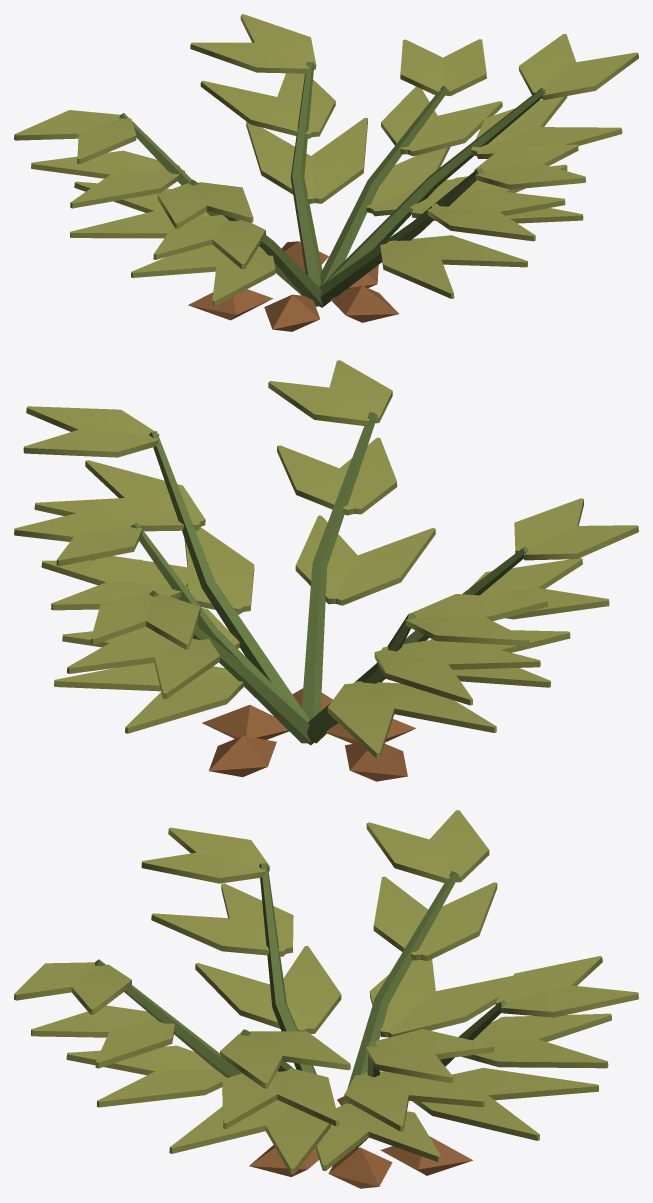
File: crop_potato_overripe.glb
3 views of the same model, one above another, from view 1: azimuth 30°, elevation 25°; view 2: azimuth 150°, elevation 25°; view 3: azimuth 270°, elevation 25° (orthographic). The views are drawn at different scales.
Visible parts, largest first — view 1: potato_overripe_leaf_00_000, potato_overripe_stem_00, potato_tuber_overripe_00; view 2: potato_overripe_leaf_00_000, potato_overripe_stem_00, potato_tuber_overripe_00; view 3: potato_overripe_leaf_00_000, potato_overripe_stem_00, potato_tuber_overripe_00.
Boxes of the visible parts, box(x1,y1,x2,y2) form: potato_overripe_leaf_00_000: box(14, 14, 638, 306); potato_overripe_stem_00: box(119, 62, 545, 307); potato_tuber_overripe_00: box(188, 241, 398, 331); potato_overripe_leaf_00_000: box(14, 360, 638, 758); potato_overripe_stem_00: box(130, 412, 528, 745); potato_tuber_overripe_00: box(202, 688, 416, 781); potato_overripe_leaf_00_000: box(14, 810, 638, 1174); potato_overripe_stem_00: box(94, 863, 507, 1147); potato_tuber_overripe_00: box(249, 1096, 472, 1188).
Bounding box in the file's own units: 1.02 × 0.3896 × 0.9332.
